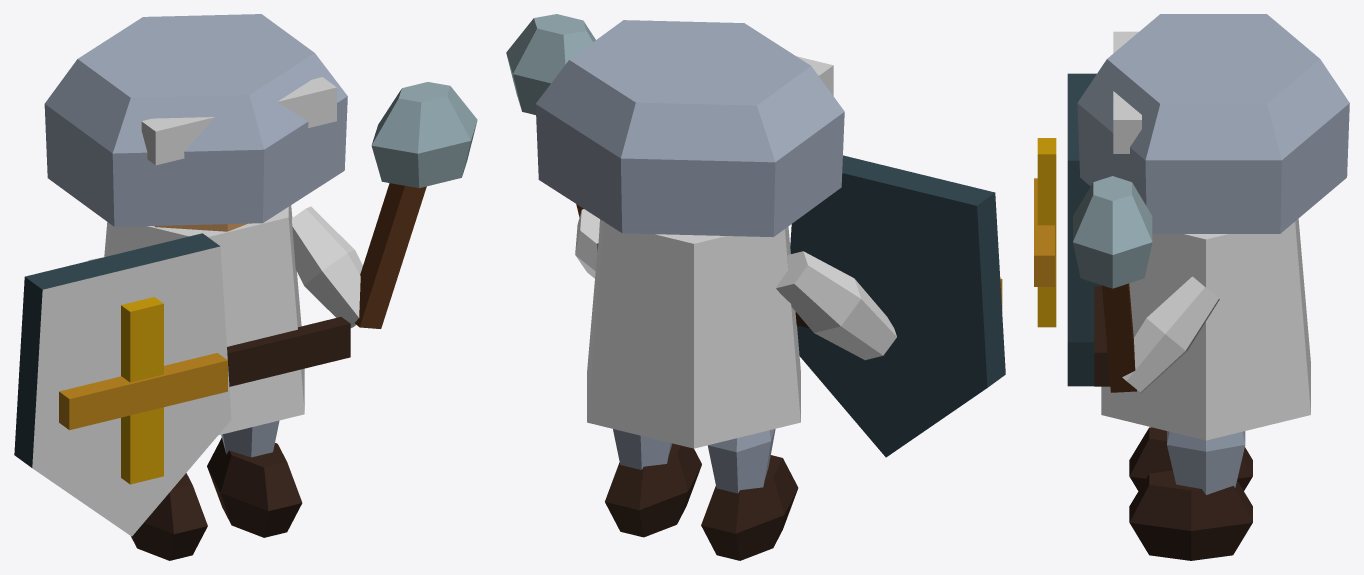
File: troop_shield.fbx
3 views of the same model, side by side, from view 1: azimuth 30°, elevation 25°; view 2: azimuth 150°, elevation 25°; view 3: azimuth 270°, elevation 25° (orthographic).
Parts seen in each view (by area): view 1: troop_shield; view 2: troop_shield; view 3: troop_shield.
Part boxes in pixels (left/top/right/bottom): troop_shield: left=14, top=14, right=477, bottom=560; troop_shield: left=506, top=14, right=1005, bottom=560; troop_shield: left=1034, top=14, right=1349, bottom=560.
Size of the model in its own units: 0.723 by 0.69 by 0.4222.
